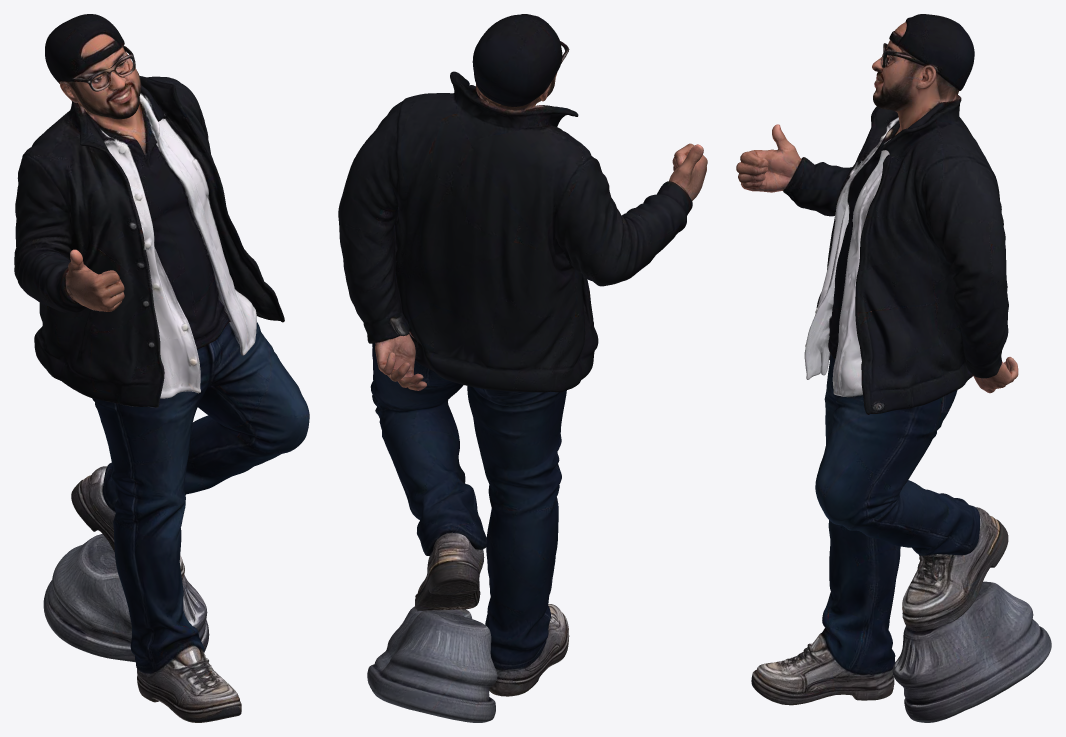
File: marina.glb
3 renders of one model, left to right at view 1: azimuth 30°, elevation 25°; view 2: azimuth 150°, elevation 25°; view 3: azimuth 270°, elevation 25°, orthographic. The views are drawn at different scales.
Parts seen in each view (by area): view 1: mesh_node; view 2: mesh_node; view 3: mesh_node.
Boxes of the visible parts, bbox=[...] form: mesh_node: bbox=[14, 14, 309, 722]; mesh_node: bbox=[338, 14, 707, 722]; mesh_node: bbox=[736, 14, 1051, 722].
Size of the model in its own units: 0.8183 by 1.9 by 0.8281.
Materials: 1 (1 with a texture image).
